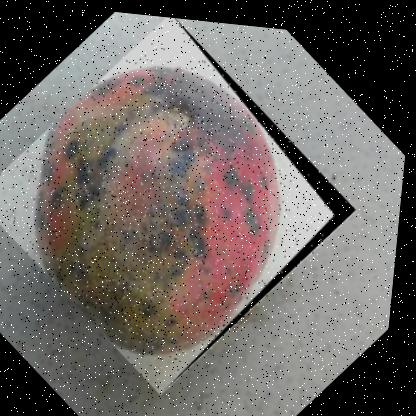pomegranate_rotten: (0, 0, 376, 409)
